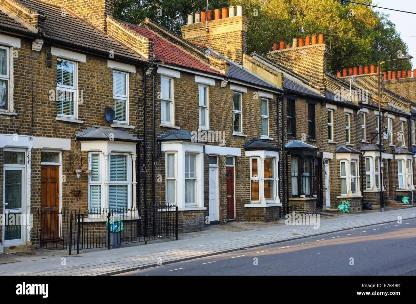door: (38, 148, 63, 249), (205, 151, 223, 230), (223, 156, 239, 224)
